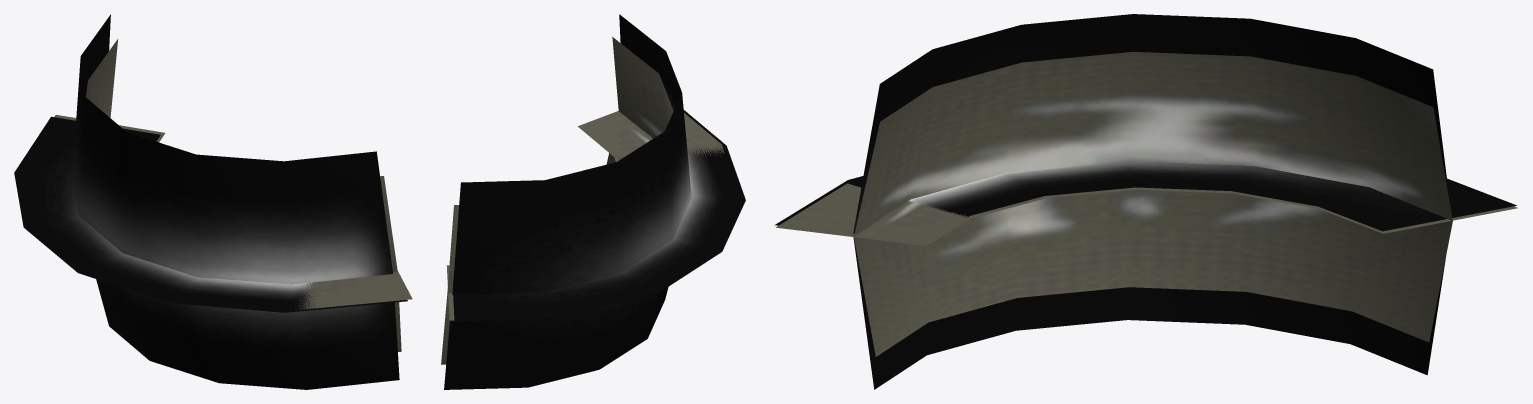
Rendered from Effect_3103attack.fbx.
3 views of the same model, side by side, from view 1: azimuth 30°, elevation 25°; view 2: azimuth 150°, elevation 25°; view 3: azimuth 270°, elevation 25° (orthographic). The views are drawn at different scales.
Parts seen in each view (by area): view 1: Effect_1001tattack02, Effect_1001tattack01; view 2: Effect_1001tattack02, Effect_1001tattack01; view 3: Effect_1001tattack01, Effect_1001tattack02.
Part boxes in pixels (x1,y1,x2,y2): Effect_1001tattack02: [14, 14, 407, 389]; Effect_1001tattack01: [54, 39, 412, 351]; Effect_1001tattack02: [444, 14, 745, 389]; Effect_1001tattack01: [441, 37, 724, 364]; Effect_1001tattack01: [776, 51, 1517, 356]; Effect_1001tattack02: [774, 14, 1516, 389].
Bounding box in the file's own units: 1.41 × 1.46 × 3.1.
Materials: 2 (2 with a texture image).
